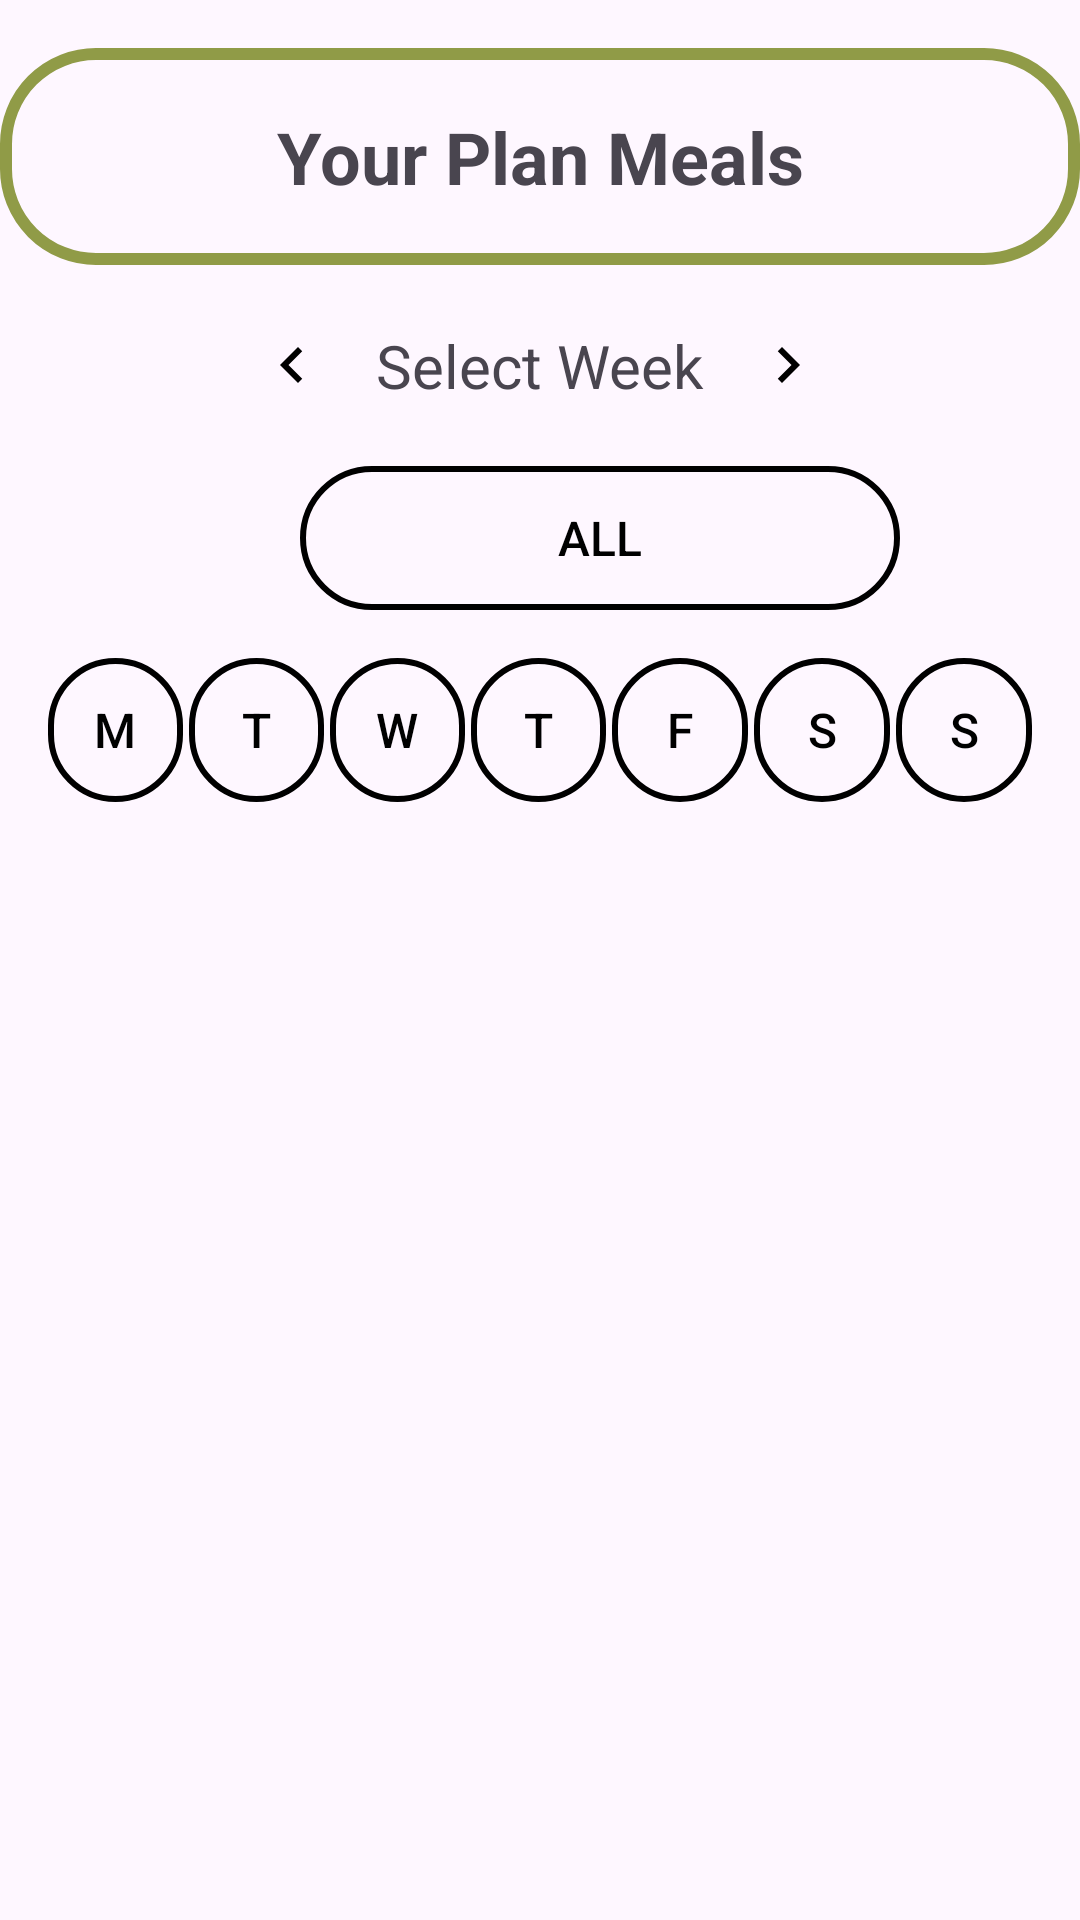

Named icons in this screenshot (1080 x 1920) and their centers, point (x, y):
Next Week: point (789, 365)
Previous Week: point (291, 365)
